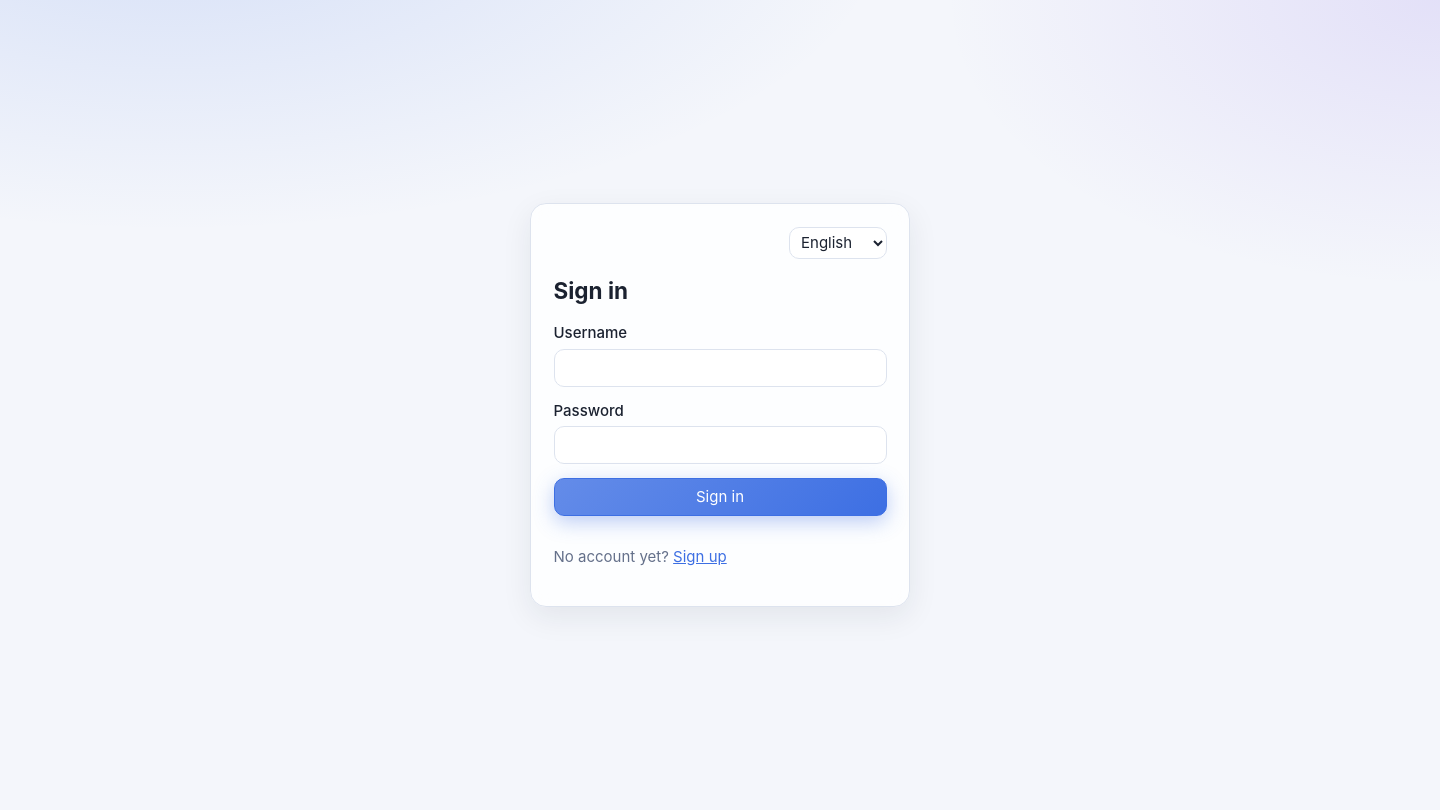
Test case: sign in › says so when the password is wrong
Type "kos" into the field labelled "Username".
click(720, 368); type("kos")  # box [554,349,886,387]
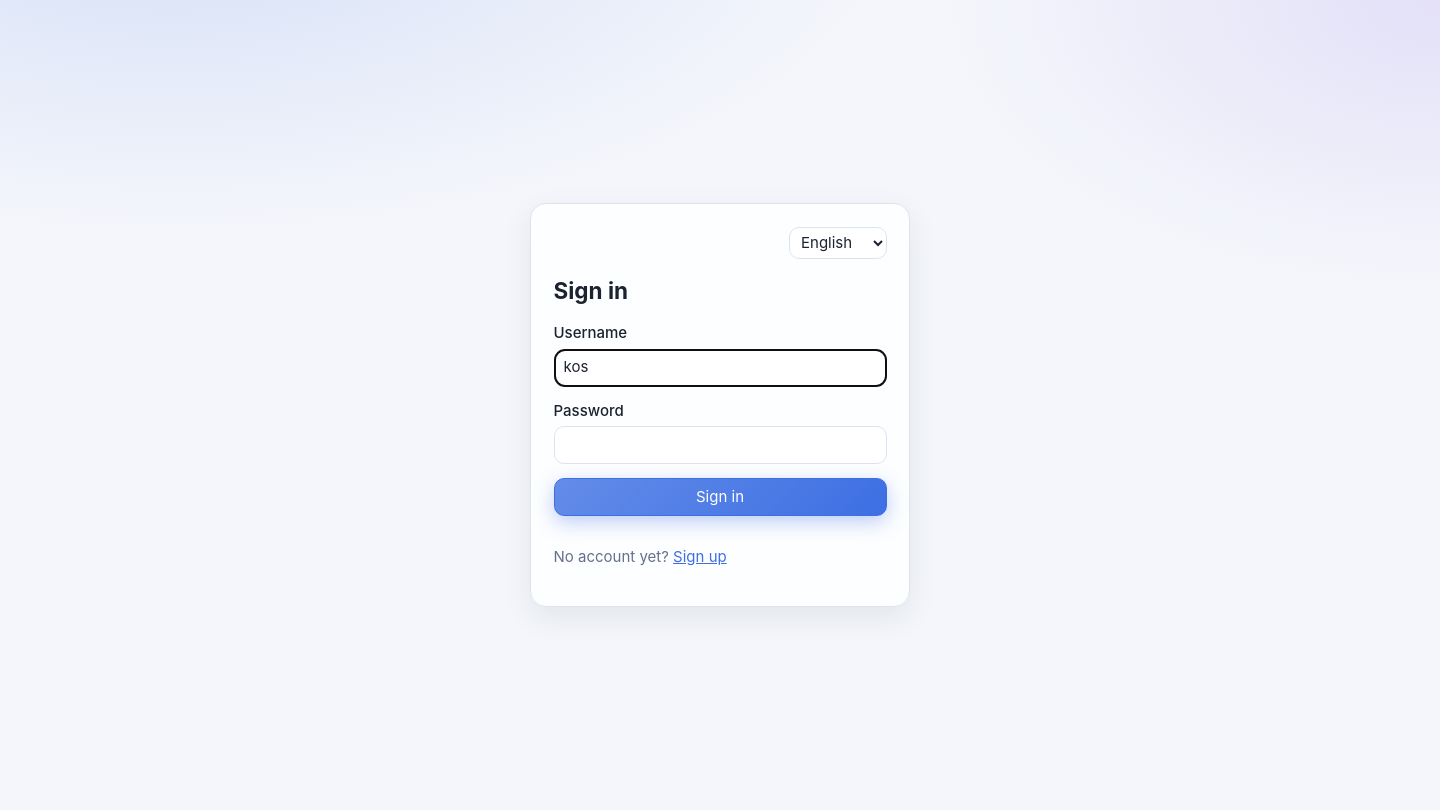
Type "wrong-pass" into the password field labelled "Password".
click(720, 445); type("wrong-pass")  # box [554,426,886,464]
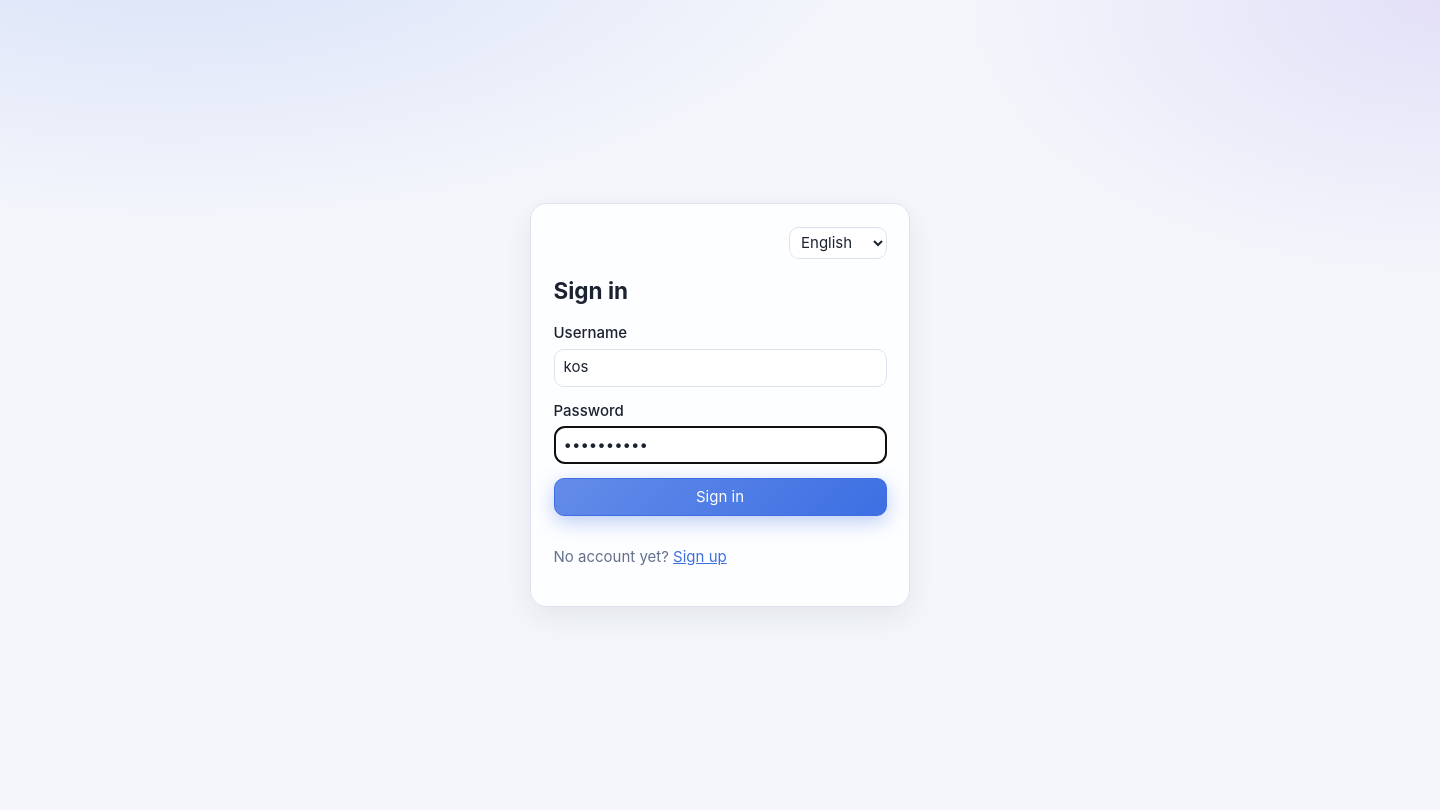
Click the button "Sign in".
click(720, 497)  # box [554,478,886,516]
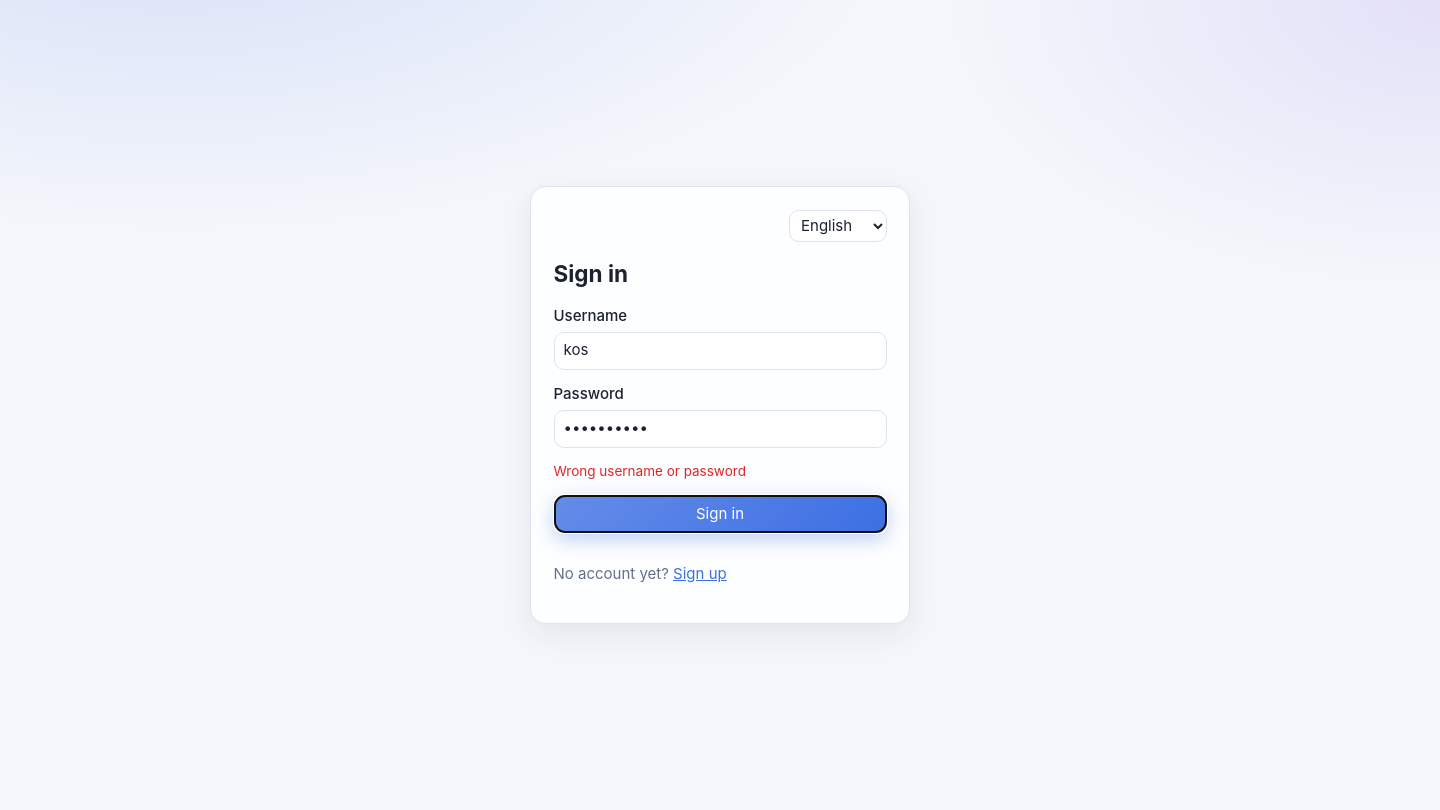
Check: the heading "Sign in" is shown, box [554,260,628,287]
Check: the message reads "Wrong username or password", box [554,463,746,479]
